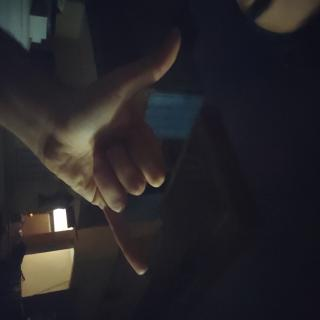YA: (18, 176, 213, 320)
